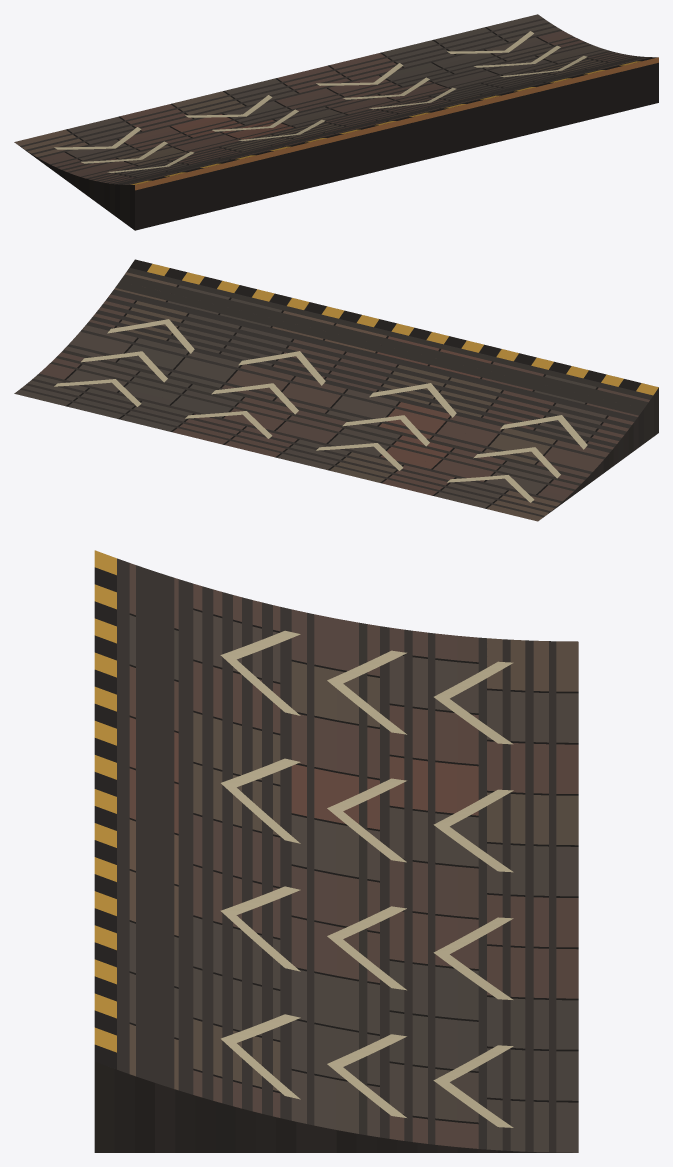
The model's file is plate_kicker_12x2p5x30.glb.
3 renders of one model, top to bottom at view 1: azimuth 30°, elevation 25°; view 2: azimuth 150°, elevation 25°; view 3: azimuth 270°, elevation 25°, orthographic. The views are drawn at different scales.
Visible parts, largest first — view 1: plate_kicker_12x2p5x30, plate_kicker_12x2p5x30-col; view 2: plate_kicker_12x2p5x30, plate_kicker_12x2p5x30-col; view 3: plate_kicker_12x2p5x30, plate_kicker_12x2p5x30-col.
Boxes of the visible parts, box(x1,y1,x2,y2) form: plate_kicker_12x2p5x30: box(14, 14, 658, 230); plate_kicker_12x2p5x30-col: box(20, 18, 651, 184); plate_kicker_12x2p5x30: box(14, 259, 658, 521); plate_kicker_12x2p5x30-col: box(20, 267, 652, 517); plate_kicker_12x2p5x30: box(94, 550, 578, 1152); plate_kicker_12x2p5x30-col: box(117, 558, 572, 1152).
Bounding box in the file's own units: 30 × 2.5 × 12.
